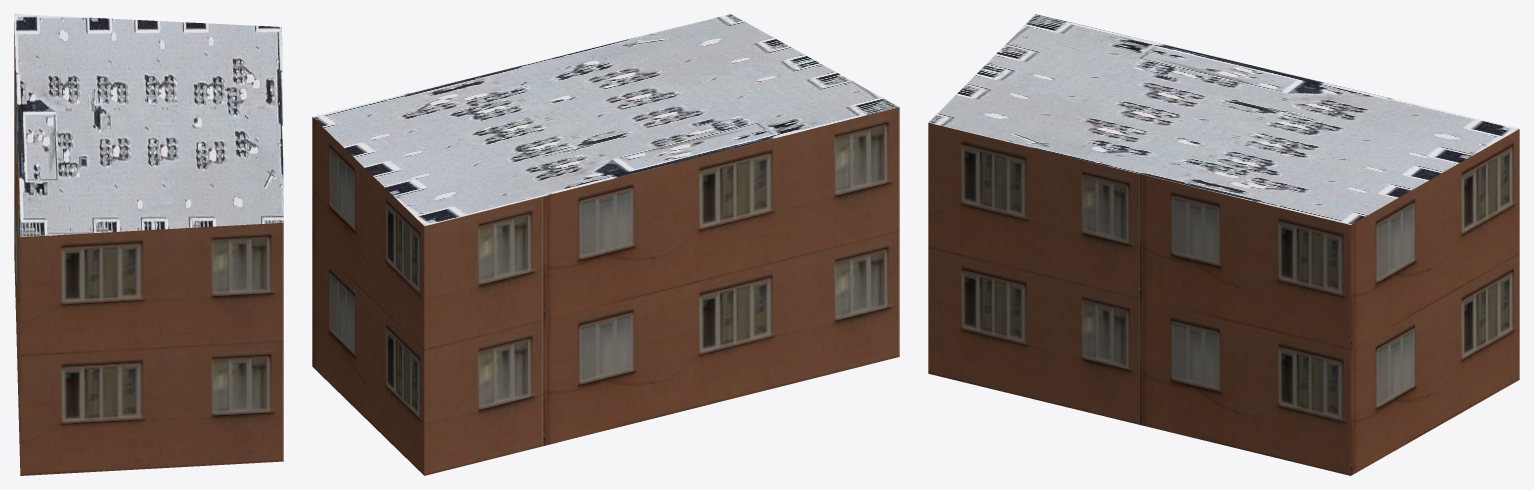
File: ResTex__4569.fbx
The picture shows the model from 3 angles, left to right: view 1: azimuth 30°, elevation 25°; view 2: azimuth 150°, elevation 25°; view 3: azimuth 270°, elevation 25°; orthographic projection. The views are drawn at different scales.
Parts seen in each view (by area): view 1: CityEngineMaterial_20_m, CityEngineMaterial_8_m; view 2: CityEngineMaterial_20_m, CityEngineMaterial_8_m; view 3: CityEngineMaterial_20_m, CityEngineMaterial_8_m.
Part boxes in pixels (x1,y1,x2,y2): CityEngineMaterial_20_m: [14, 22, 283, 475]; CityEngineMaterial_8_m: [14, 14, 283, 237]; CityEngineMaterial_20_m: [312, 107, 899, 475]; CityEngineMaterial_8_m: [313, 14, 898, 226]; CityEngineMaterial_20_m: [928, 123, 1519, 475]; CityEngineMaterial_8_m: [928, 14, 1518, 224].
Bounding box in the file's own units: 10.83 × 6 × 12.81.
2 materials, 2 textured.
